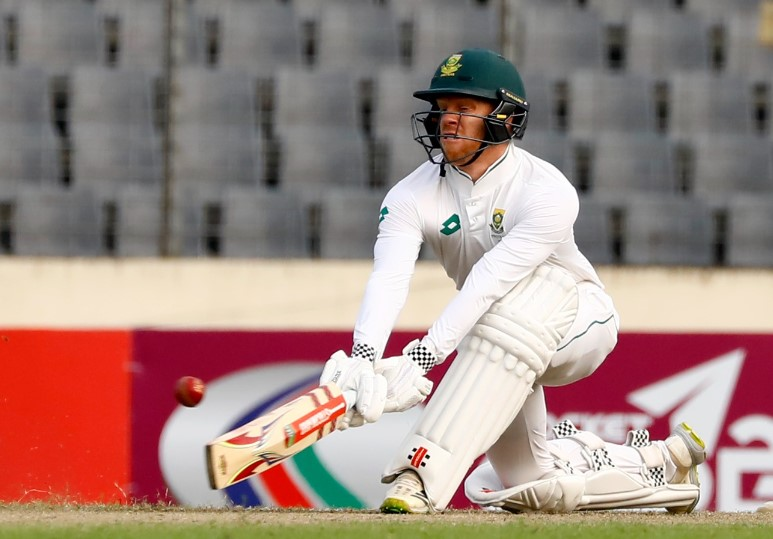Sweepshot: (115, 16, 722, 528)
